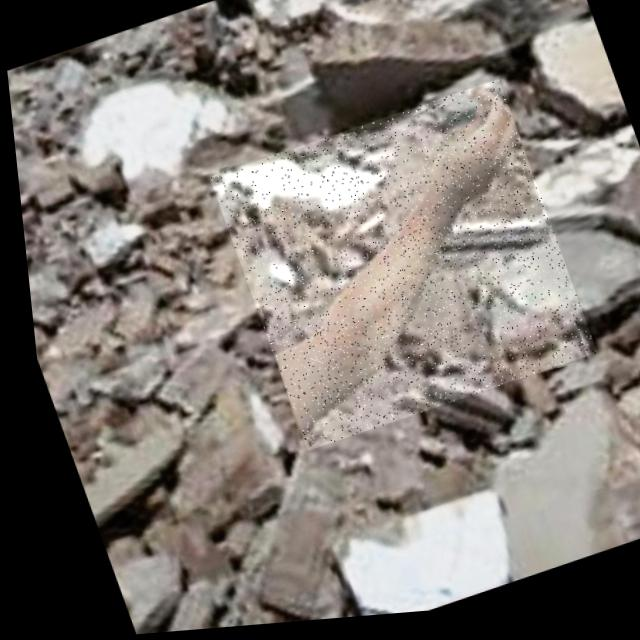Person in Rubble: (199, 82, 594, 459)
